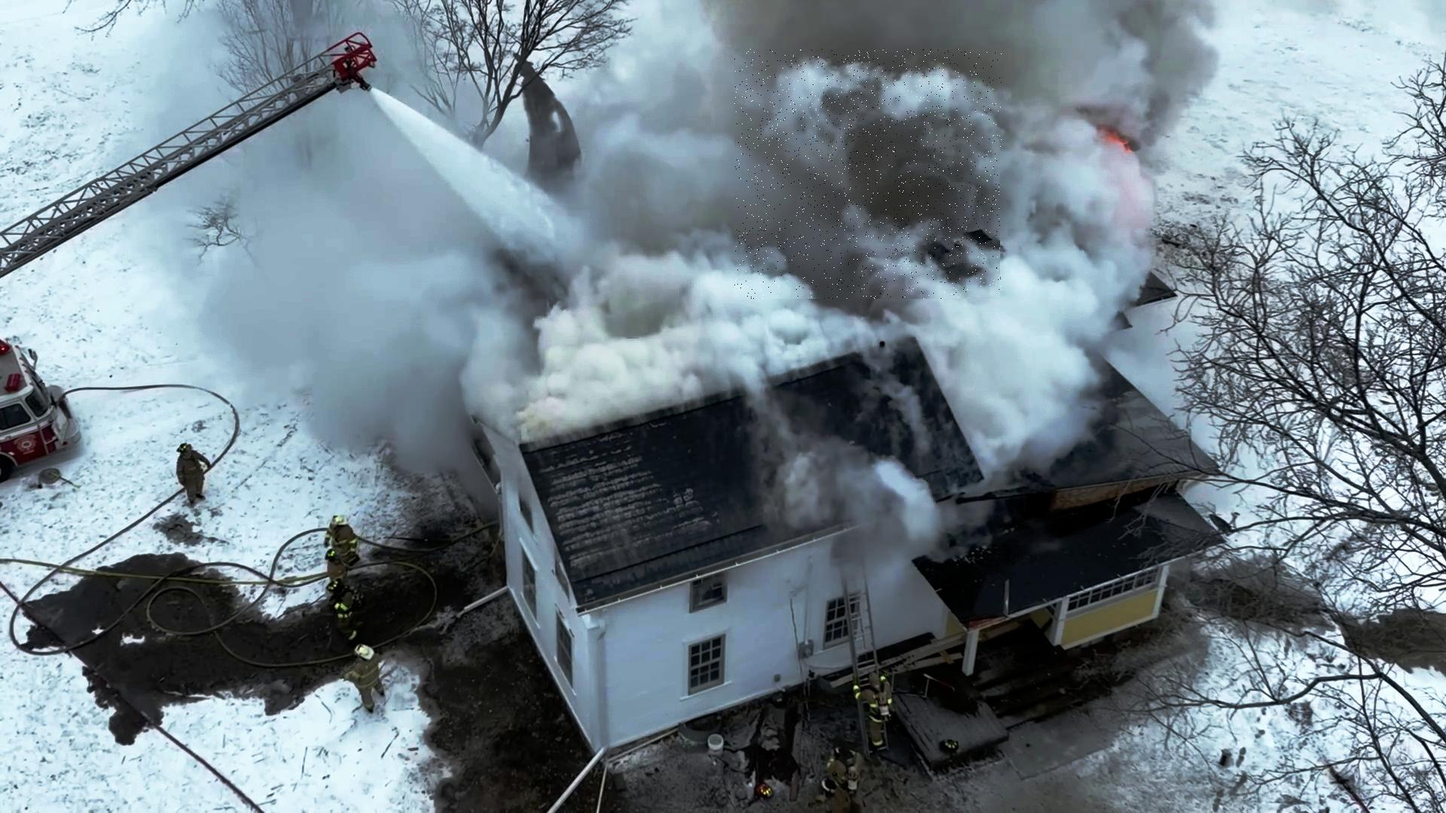smoke: (735, 49, 1002, 299)
